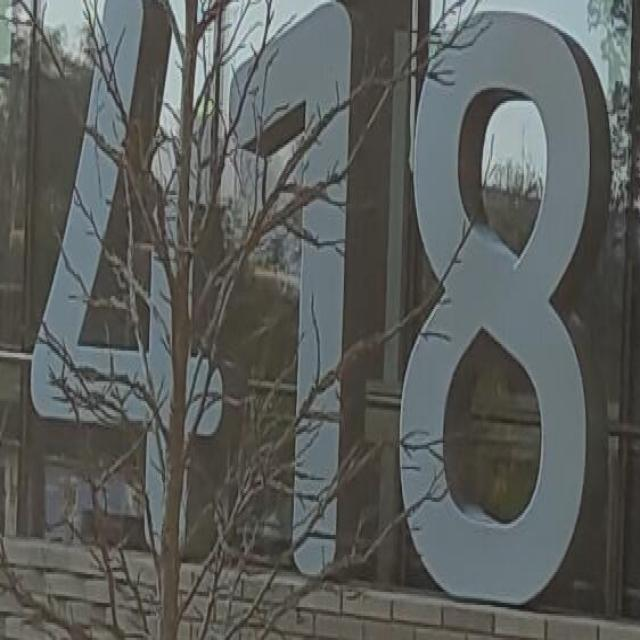character: (397, 6, 596, 624), (29, 0, 226, 567), (228, 0, 355, 588)
